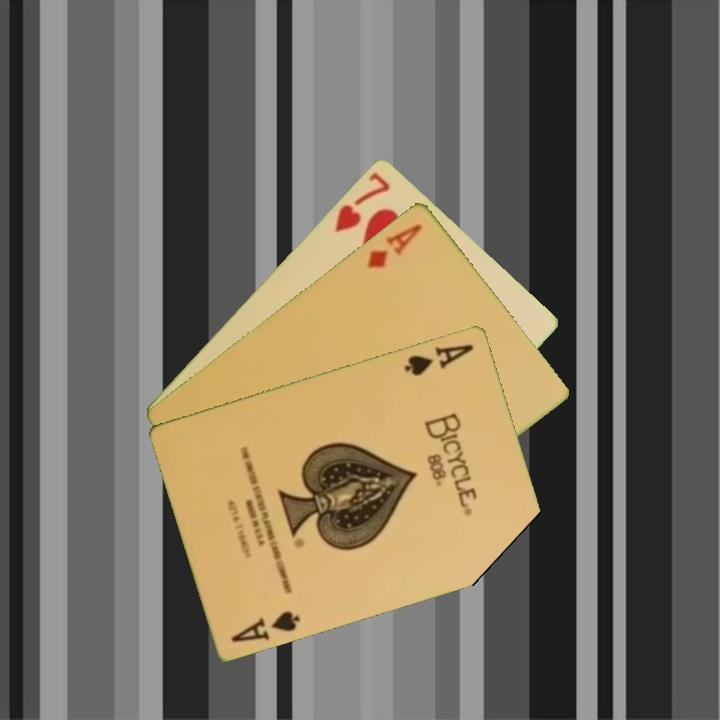7h: (331, 167, 393, 235)
Ad: (363, 219, 425, 271)
As: (227, 606, 304, 645), (401, 340, 477, 379)
